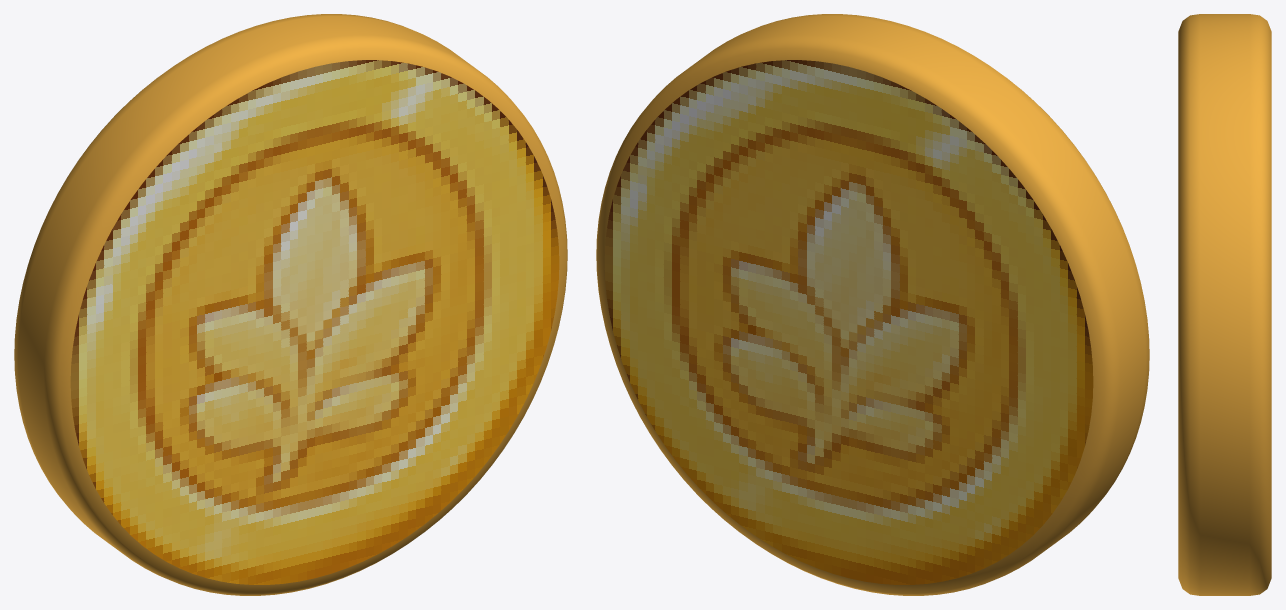
The model's file is leaf_coin_3d.glb.
The picture shows the model from 3 angles, left to right: view 1: azimuth 30°, elevation 25°; view 2: azimuth 150°, elevation 25°; view 3: azimuth 270°, elevation 25°; orthographic projection. The views are drawn at different scales.
Visible parts, largest first — view 1: LeafCoinMesh; view 2: LeafCoinMesh; view 3: LeafCoinMesh.
Part boxes in pixels (left/top/right/bottom): LeafCoinMesh: left=14, top=14, right=567, bottom=595; LeafCoinMesh: left=596, top=14, right=1149, bottom=595; LeafCoinMesh: left=1178, top=14, right=1271, bottom=595.
Bounding box in the file's own units: 2 × 2 × 0.32.
Materials: 2 (1 with a texture image).
